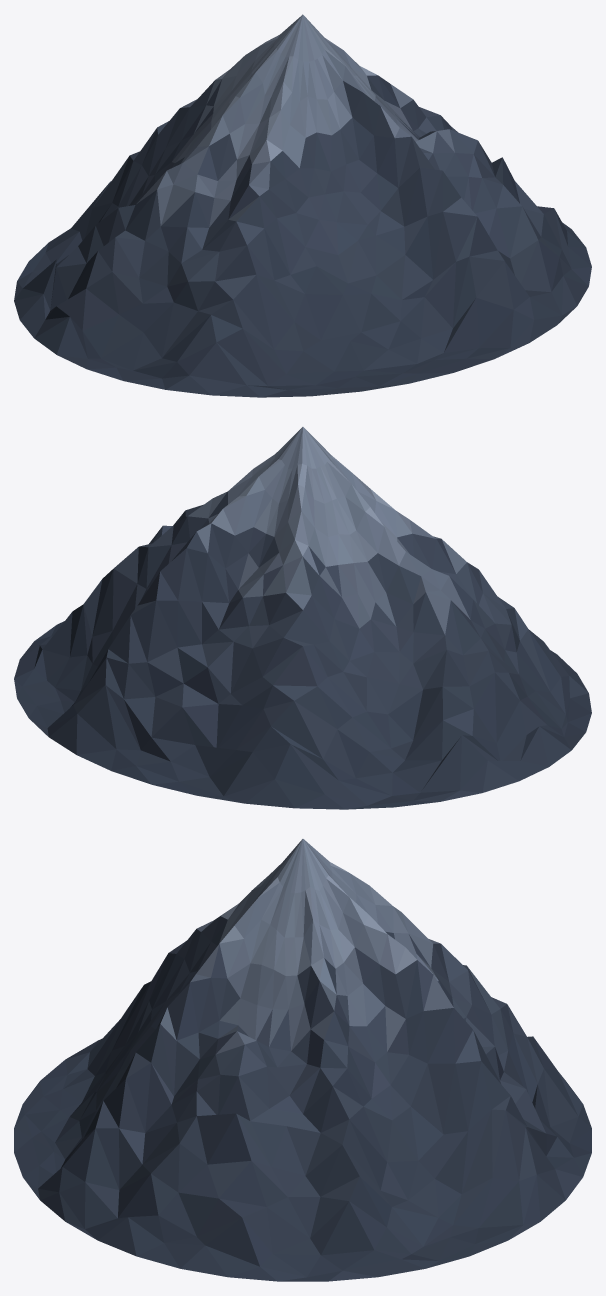
The model's file is mountain_night.glb.
The picture shows the model from 3 angles, top to bottom: view 1: azimuth 30°, elevation 25°; view 2: azimuth 150°, elevation 25°; view 3: azimuth 270°, elevation 25°; orthographic projection. The views are drawn at different scales.
Visible parts, largest first — view 1: mountain_night; view 2: mountain_night; view 3: mountain_night.
Boxes of the visible parts, x1,y1,x2,y2 form: mountain_night: (14, 14, 591, 397); mountain_night: (14, 427, 591, 809); mountain_night: (14, 839, 591, 1281).
Size of the model in its own units: 188 by 93.75 by 162.
